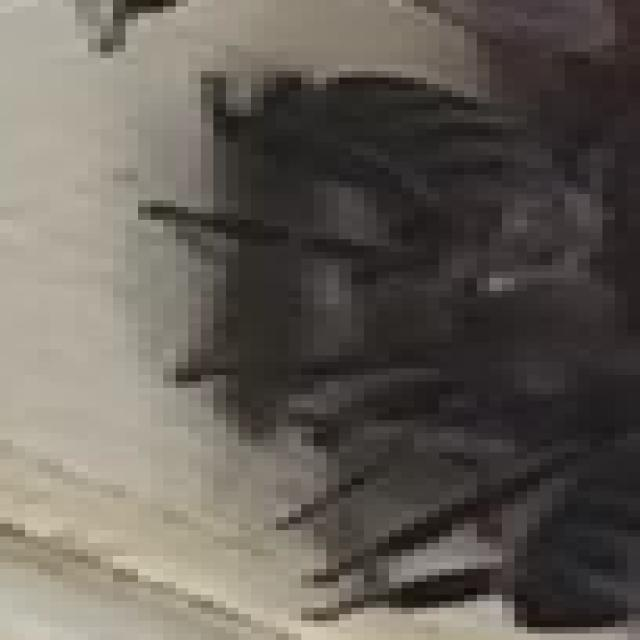honeybee: (170, 65, 640, 619)
